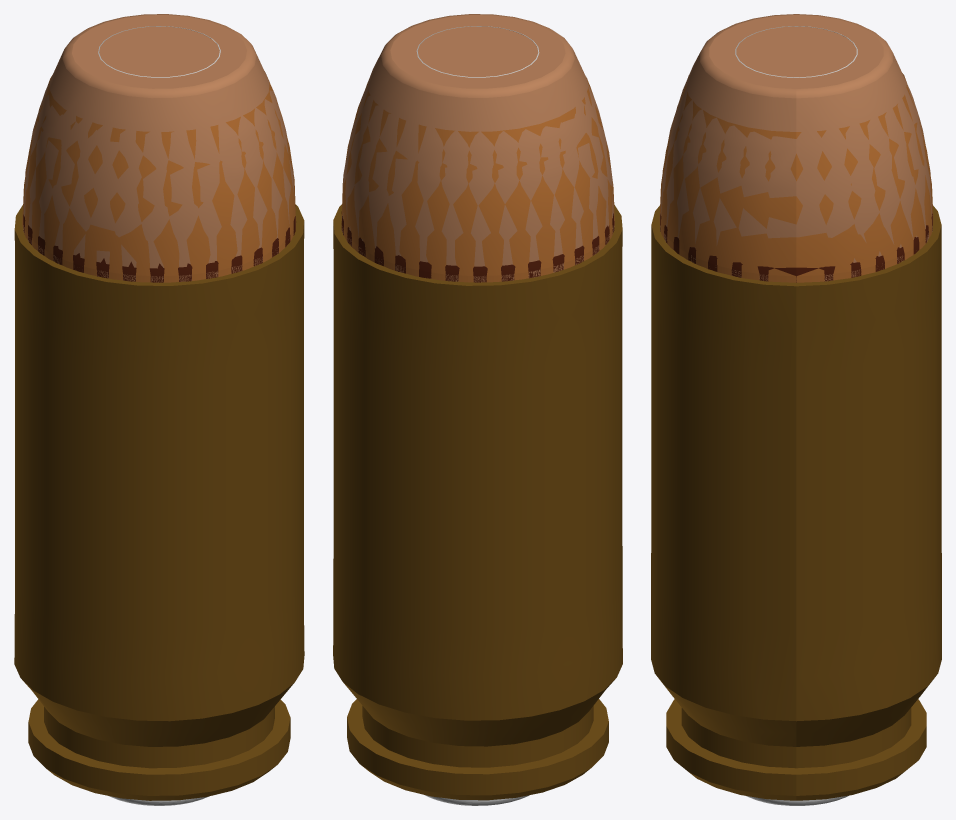
3 views of the same model, side by side, from view 1: azimuth 30°, elevation 25°; view 2: azimuth 150°, elevation 25°; view 3: azimuth 270°, elevation 25° (orthographic).
Parts seen in each view (by area): view 1: o4_IndexedFaceSet_o4_IndexedFaceSet.008, o12_IndexedFaceSet.001_o12_IndexedFaceSet.008, o12_IndexedFaceSet.003_o12_IndexedFaceSet.010, o12_IndexedFaceSet_o12_IndexedFaceSet.007; view 2: o4_IndexedFaceSet_o4_IndexedFaceSet.008, o12_IndexedFaceSet.001_o12_IndexedFaceSet.008, o12_IndexedFaceSet.003_o12_IndexedFaceSet.010, o12_IndexedFaceSet_o12_IndexedFaceSet.007; view 3: o4_IndexedFaceSet_o4_IndexedFaceSet.008, o12_IndexedFaceSet.001_o12_IndexedFaceSet.008, o12_IndexedFaceSet.003_o12_IndexedFaceSet.010, o12_IndexedFaceSet_o12_IndexedFaceSet.007.
Part boxes in pixels (box(x1,y1,x2,y2)): o4_IndexedFaceSet_o4_IndexedFaceSet.008: box(14, 204, 304, 800); o12_IndexedFaceSet.001_o12_IndexedFaceSet.008: box(23, 14, 294, 282); o12_IndexedFaceSet.003_o12_IndexedFaceSet.010: box(22, 71, 295, 282); o12_IndexedFaceSet_o12_IndexedFaceSet.007: box(23, 205, 295, 282); o4_IndexedFaceSet_o4_IndexedFaceSet.008: box(333, 204, 622, 800); o12_IndexedFaceSet.001_o12_IndexedFaceSet.008: box(341, 14, 614, 282); o12_IndexedFaceSet.003_o12_IndexedFaceSet.010: box(341, 77, 614, 282); o12_IndexedFaceSet_o12_IndexedFaceSet.007: box(341, 211, 614, 282); o4_IndexedFaceSet_o4_IndexedFaceSet.008: box(651, 205, 941, 800); o12_IndexedFaceSet.001_o12_IndexedFaceSet.008: box(660, 14, 932, 281); o12_IndexedFaceSet.003_o12_IndexedFaceSet.010: box(659, 73, 933, 282); o12_IndexedFaceSet_o12_IndexedFaceSet.007: box(660, 213, 932, 282).
Size of the model in its own units: 11.05 by 30.48 by 11.05.
